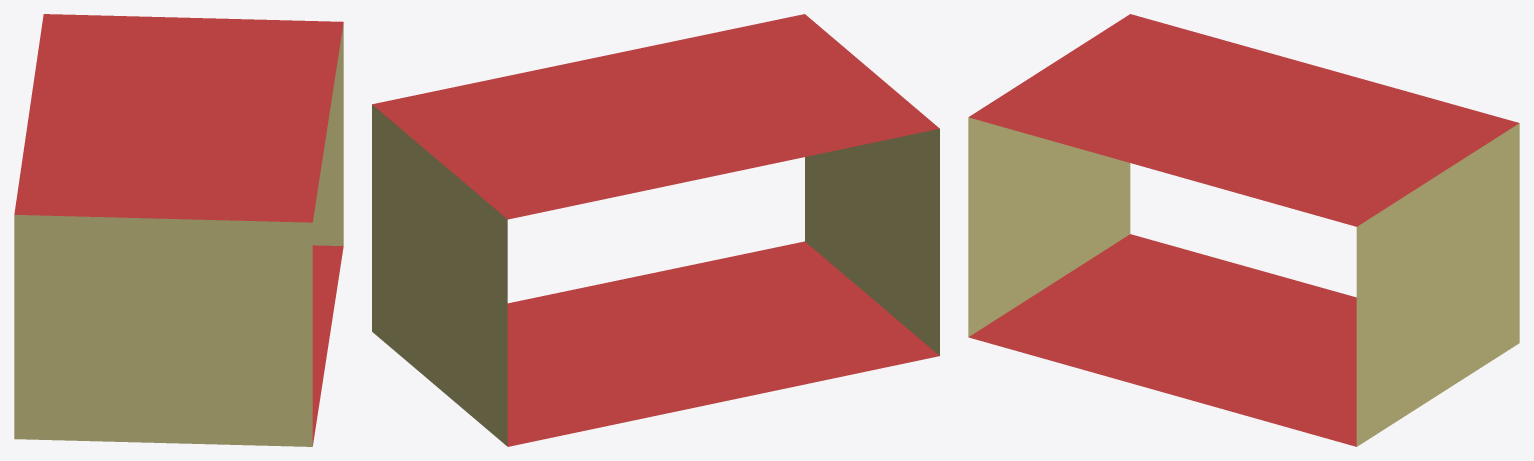
3 views of the same model, side by side, from view 1: azimuth 30°, elevation 25°; view 2: azimuth 150°, elevation 25°; view 3: azimuth 270°, elevation 25° (orthographic). The views are drawn at different scales.
Visible parts, largest first — view 1: group_4, group_3, group_5; view 2: group_3, group_5, group_4; view 3: group_4, group_3, group_5.
Part boxes in pixels (box(x1,y1,x2,y2)): group_4: box(14, 23, 343, 446); group_3: box(14, 14, 343, 222); group_5: box(312, 245, 343, 445); group_3: box(372, 14, 939, 219); group_5: box(507, 241, 939, 446); group_4: box(372, 104, 939, 446); group_4: box(968, 117, 1519, 446); group_3: box(969, 14, 1519, 226); group_5: box(968, 234, 1356, 446).
Size of the model in its own units: 14.73 by 16.13 by 7.1.
